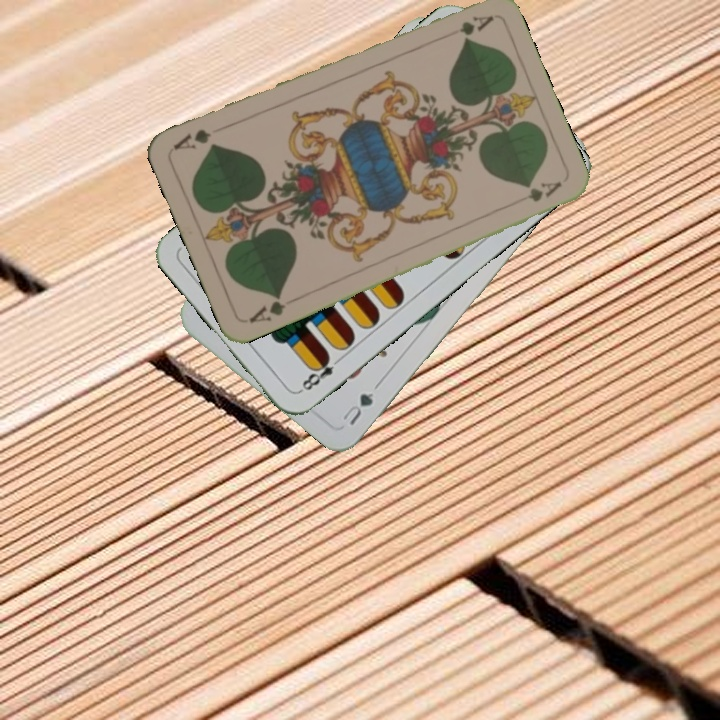E8: (295, 350, 345, 395)
GA: (244, 290, 299, 326), (455, 11, 496, 38)
GU: (338, 388, 377, 428)
